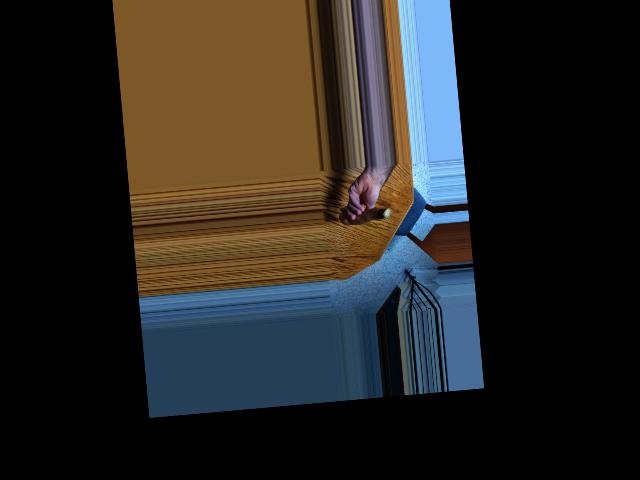sweet_potato: (340, 201, 392, 226)
